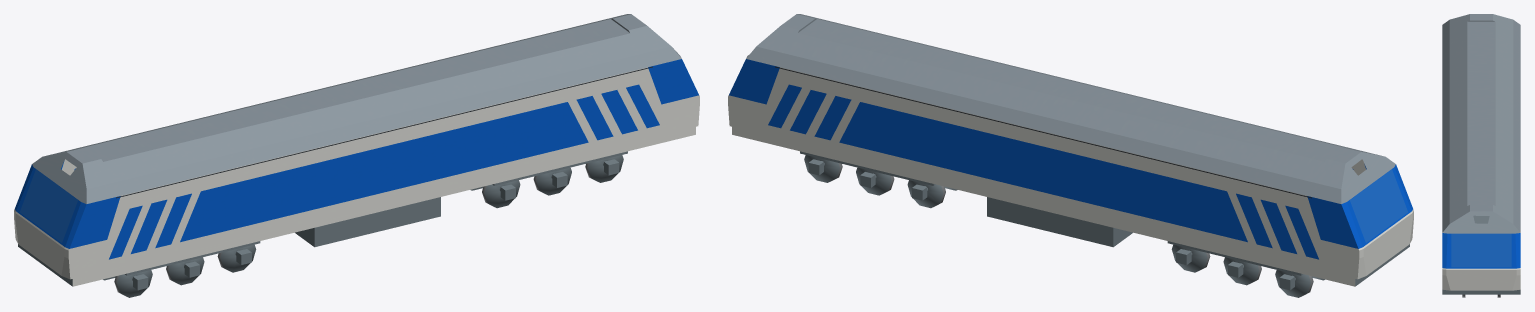
Rendered from fxn5c_lod2.fbx.
The picture shows the model from 3 angles, left to right: view 1: azimuth 30°, elevation 25°; view 2: azimuth 150°, elevation 25°; view 3: azimuth 270°, elevation 25°; orthographic projection. The views are drawn at different scales.
Parts seen in each view (by area): view 1: body, b2, b1, w6, w3, w2, w1, w5, w4; view 2: body, b2, b1, w6, w3, w2, w1, w5, w4; view 3: body.
Boxes of the visible parts, box(x1,y1,x2,y2) form: body: box(14, 14, 699, 286); b2: box(125, 241, 260, 290); b1: box(492, 151, 627, 200); w6: box(103, 270, 152, 297); w3: box(470, 180, 520, 208); w2: box(533, 167, 571, 195); w1: box(585, 155, 623, 182); w5: box(166, 257, 204, 285); w4: box(217, 244, 256, 272); body: box(728, 14, 1413, 286); b2: box(1167, 241, 1302, 290); b1: box(800, 151, 935, 200); w6: box(1275, 270, 1324, 297); w3: box(907, 180, 957, 208); w2: box(856, 167, 894, 195); w1: box(804, 155, 842, 182); w5: box(1223, 257, 1261, 285); w4: box(1171, 244, 1210, 272); body: box(1442, 14, 1520, 294).
Size of the model in its own units: 2208 by 469 by 330.
